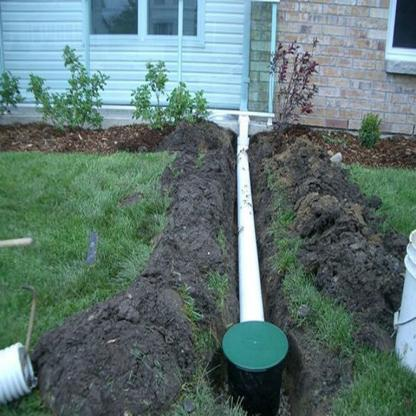PVC: (1, 103, 274, 321)
